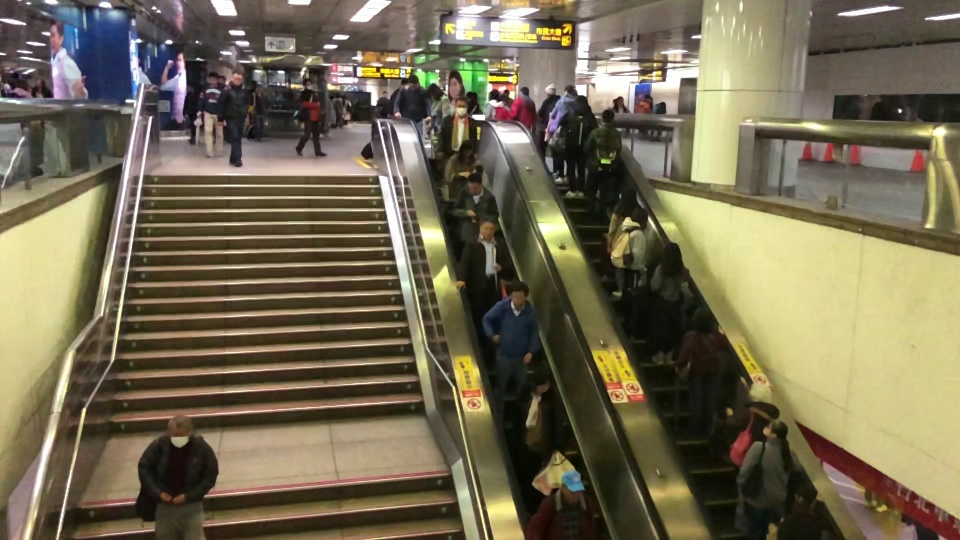person_head: (166, 413, 193, 446), (530, 367, 551, 395), (690, 306, 712, 332), (748, 383, 775, 403), (560, 478, 583, 500), (762, 419, 789, 437), (510, 280, 531, 303), (788, 499, 807, 522), (662, 241, 680, 264), (479, 215, 496, 239), (466, 172, 483, 193), (630, 206, 647, 225), (619, 182, 636, 200), (459, 138, 475, 155), (573, 95, 588, 111), (601, 108, 616, 123), (231, 69, 244, 86), (428, 83, 441, 97), (455, 97, 466, 113), (208, 72, 219, 86), (563, 84, 575, 96), (407, 74, 418, 87), (545, 84, 556, 97), (16, 78, 28, 89), (302, 77, 313, 89), (490, 89, 499, 101), (519, 86, 529, 95), (617, 95, 626, 105), (400, 78, 406, 87), (645, 94, 651, 103), (37, 79, 44, 86), (660, 100, 666, 108)
person_vbox: (137, 412, 218, 540), (482, 280, 539, 410), (675, 306, 729, 439), (515, 367, 569, 466), (454, 215, 512, 305), (650, 240, 688, 366), (584, 108, 624, 224), (729, 383, 780, 467), (735, 419, 794, 491), (561, 95, 597, 200), (607, 182, 637, 296), (216, 69, 251, 166), (453, 172, 499, 244), (610, 206, 647, 281), (294, 77, 327, 158), (437, 97, 481, 155), (550, 84, 575, 185), (197, 72, 225, 158), (537, 83, 562, 177), (774, 493, 824, 540), (393, 73, 430, 128), (444, 138, 476, 192), (509, 87, 538, 128), (427, 82, 449, 131), (386, 77, 407, 117), (634, 94, 652, 139), (486, 88, 508, 117), (651, 100, 666, 142), (616, 94, 632, 132), (5, 79, 32, 100), (32, 78, 52, 98)
